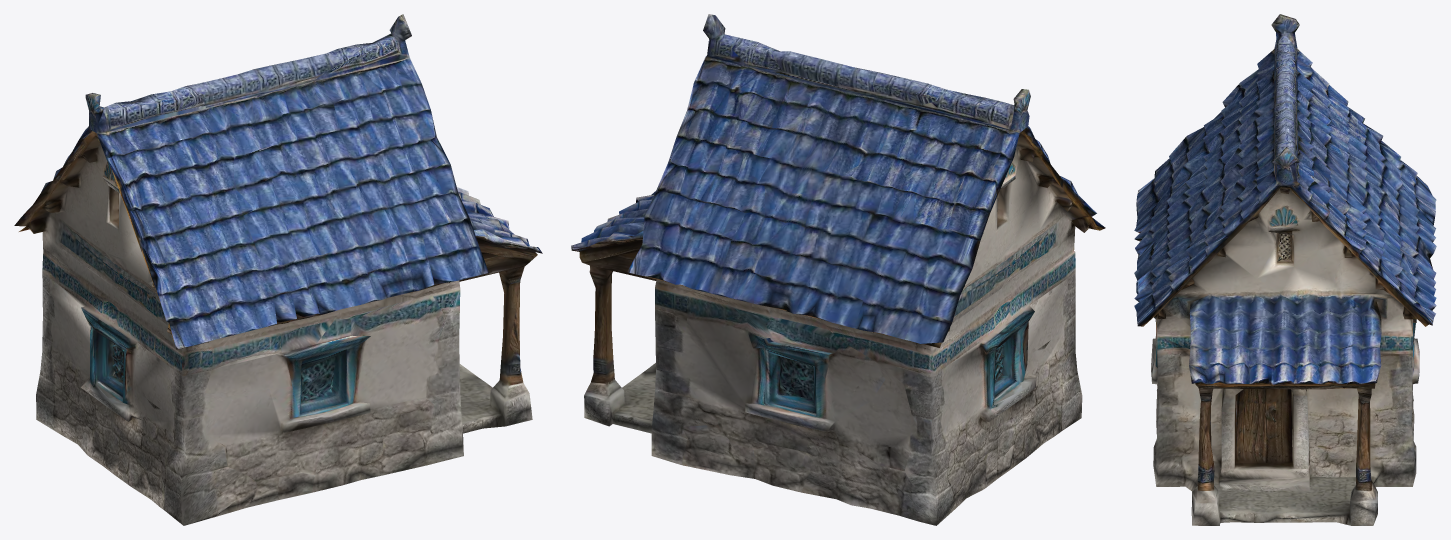
The model's file is house_cottage_1.glb.
3 renders of one model, left to right at view 1: azimuth 30°, elevation 25°; view 2: azimuth 150°, elevation 25°; view 3: azimuth 270°, elevation 25°, orthographic. The views are drawn at different scales.
Parts seen in each view (by area): view 1: tripo_node_c624b13c-2225-4914-8717-684f2fc18b02; view 2: tripo_node_c624b13c-2225-4914-8717-684f2fc18b02; view 3: tripo_node_c624b13c-2225-4914-8717-684f2fc18b02.
Boxes of the visible parts, box(x1,y1,x2,y2) form: tripo_node_c624b13c-2225-4914-8717-684f2fc18b02: box(14, 14, 542, 525); tripo_node_c624b13c-2225-4914-8717-684f2fc18b02: box(571, 14, 1105, 525); tripo_node_c624b13c-2225-4914-8717-684f2fc18b02: box(1134, 14, 1436, 525).
Size of the model in its own units: 0.9797 by 0.8948 by 0.7136.
Materials: 1 (1 with a texture image).
